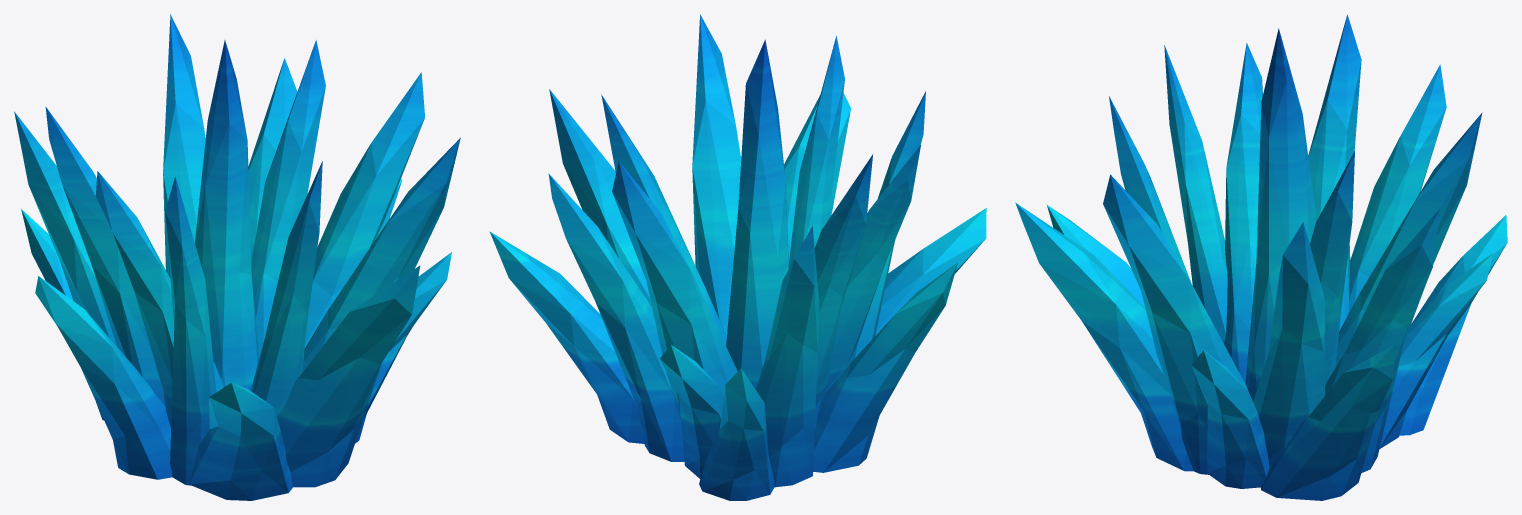
The model's file is Crystal4.obj.
The picture shows the model from 3 angles, left to right: view 1: azimuth 30°, elevation 25°; view 2: azimuth 150°, elevation 25°; view 3: azimuth 270°, elevation 25°; orthographic projection. The views are drawn at different scales.
Parts seen in each view (by area): view 1: obj1; view 2: obj1; view 3: obj1.
Part boxes in pixels (x1,y1,x2,y2): obj1: [14, 14, 460, 500]; obj1: [489, 14, 986, 500]; obj1: [1015, 14, 1507, 500].
Size of the model in its own units: 7.16 by 6.69 by 7.35.
Materials: 1 (1 with a texture image).
